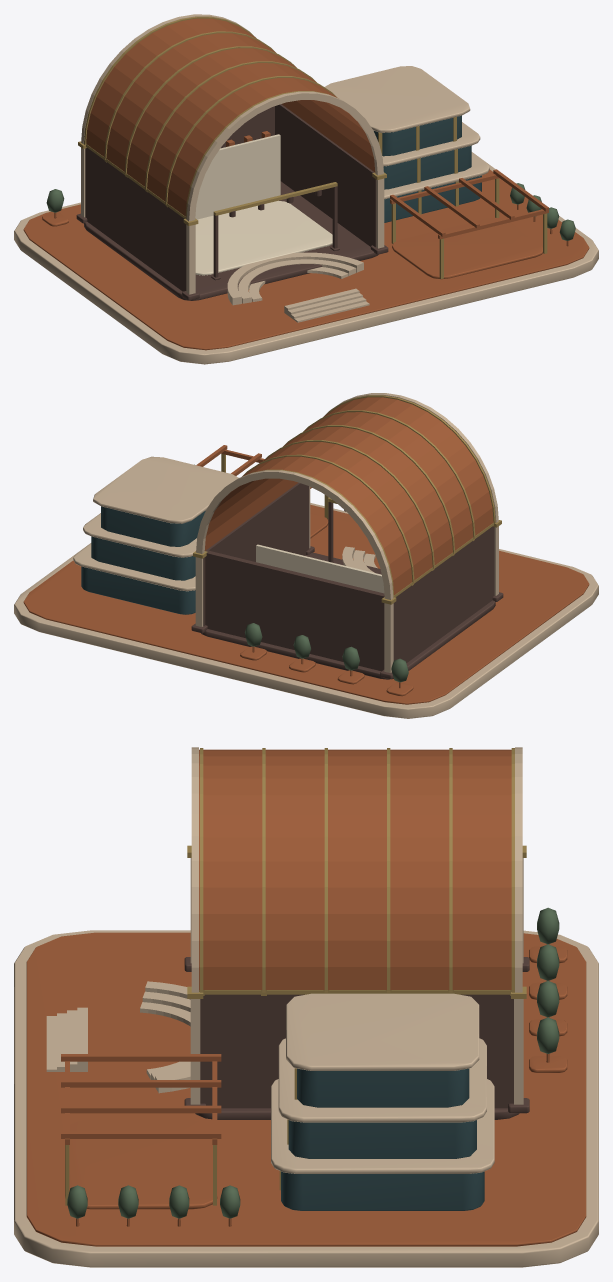
3 views of the same model, one above another, from view 1: azimuth 30°, elevation 25°; view 2: azimuth 150°, elevation 25°; view 3: azimuth 270°, elevation 25° (orthographic). The views are drawn at different scales.
Parts seen in each view (by area): view 1: polly-architecture-timber, polly-architecture-limestone, polly-architecture-graphite, polly-architecture-chalk, polly-architecture-brushed-brass, polly-architecture-recessed-glass, polly-architecture-garden; view 2: polly-architecture-timber, polly-architecture-graphite, polly-architecture-limestone, polly-architecture-recessed-glass, polly-architecture-brushed-brass, polly-architecture-chalk, polly-architecture-garden; view 3: polly-architecture-timber, polly-architecture-limestone, polly-architecture-recessed-glass, polly-architecture-graphite, polly-architecture-brushed-brass, polly-architecture-garden.
Boxes of the visible parts, left/top/right/bottom form: polly-architecture-timber: left=23, top=18, right=589, bottom=350; polly-architecture-limestone: left=14, top=14, right=598, bottom=364; polly-architecture-graphite: left=76, top=104, right=388, bottom=300; polly-architecture-chalk: left=195, top=134, right=332, bottom=275; polly-architecture-brushed-brass: left=78, top=16, right=547, bottom=278; polly-architecture-recessed-glass: left=374, top=115, right=481, bottom=222; polly-architecture-garden: left=46, top=183, right=575, bottom=240; polly-architecture-timber: left=23, top=397, right=589, bottom=704; polly-architecture-graphite: left=191, top=482, right=503, bottom=679; polly-architecture-limestone: left=14, top=393, right=598, bottom=718; polly-architecture-recessed-glass: left=81, top=506, right=205, bottom=614; polly-architecture-brushed-brass: left=193, top=395, right=501, bottom=604; polly-architecture-chalk: left=256, top=544, right=384, bottom=593; polly-architecture-garden: left=194, top=464, right=408, bottom=682; polly-architecture-timber: left=26, top=749, right=586, bottom=1246; polly-architecture-limestone: left=14, top=747, right=598, bottom=1267; polly-architecture-recessed-glass: left=281, top=1068, right=484, bottom=1210; polly-architecture-graphite: left=184, top=957, right=529, bottom=1119; polly-architecture-brushed-brass: left=65, top=748, right=526, bottom=1205; polly-architecture-garden: left=67, top=907, right=559, bottom=1218.
Bounding box in the file's own units: 30 × 13.04 × 23.
